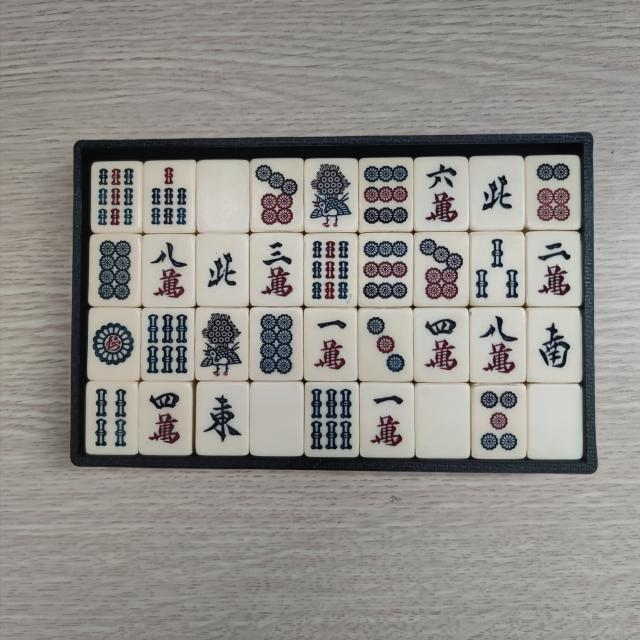hdw: (257, 388, 300, 452), (534, 390, 576, 455), (202, 164, 246, 226), (420, 390, 462, 454)
hwe: (200, 390, 244, 450)
hwn: (476, 162, 520, 224), (202, 240, 245, 303)
hws: (534, 312, 577, 378)
sb1: (199, 312, 246, 379), (308, 163, 355, 230)
sb3: (473, 237, 520, 303)
sb4: (90, 386, 132, 450)
sb6: (310, 387, 356, 453), (144, 314, 190, 378)
sb7: (149, 164, 193, 228)
sb9: (311, 238, 354, 304), (95, 167, 136, 230)
sc1: (366, 388, 410, 451), (308, 314, 352, 376)
sc2: (532, 239, 576, 304)
sc3: (256, 238, 300, 302)
sc4: (418, 314, 462, 379), (145, 388, 189, 450)
sc6: (420, 161, 464, 227)
sc8: (476, 312, 522, 378), (147, 240, 192, 304)
sd1: (90, 313, 136, 377)
sd3: (363, 314, 410, 378)
sd5: (477, 390, 522, 454)
sd6: (530, 160, 574, 224)
sd7: (419, 237, 466, 304), (255, 162, 301, 226)
sd8: (254, 312, 298, 376), (94, 238, 136, 302)
sd9: (360, 162, 408, 228), (360, 236, 408, 300)
